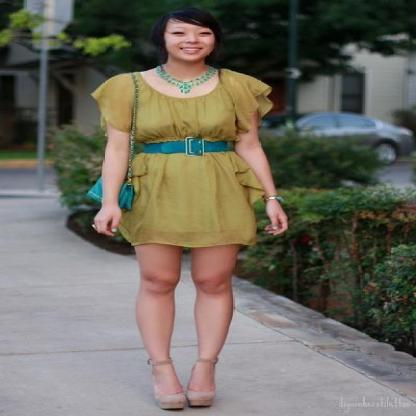bag: (87, 178, 136, 208)
dress: (92, 69, 272, 252)
shoe: (162, 396, 210, 410)
